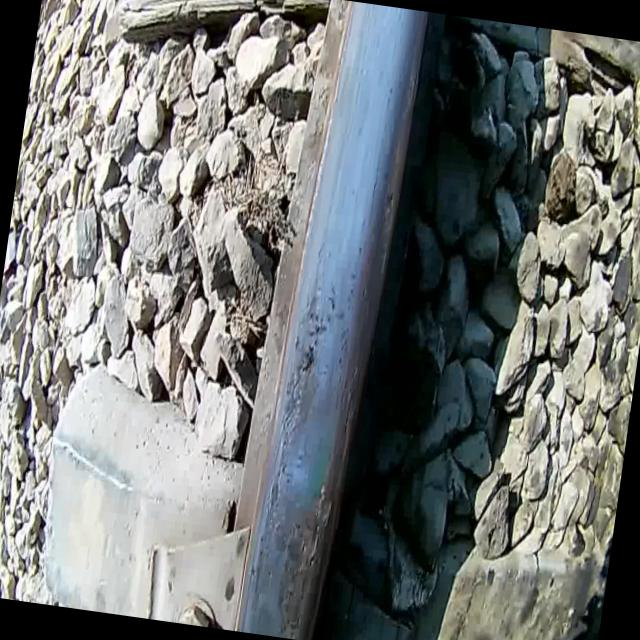Spallings: (294, 336, 322, 386)
Squats: (241, 269, 374, 640)
